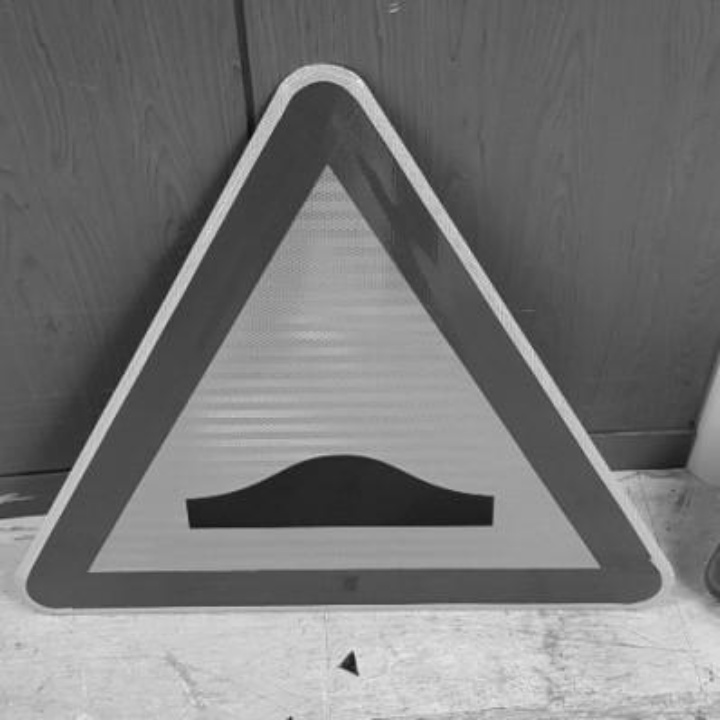bump: (169, 422, 525, 552)
